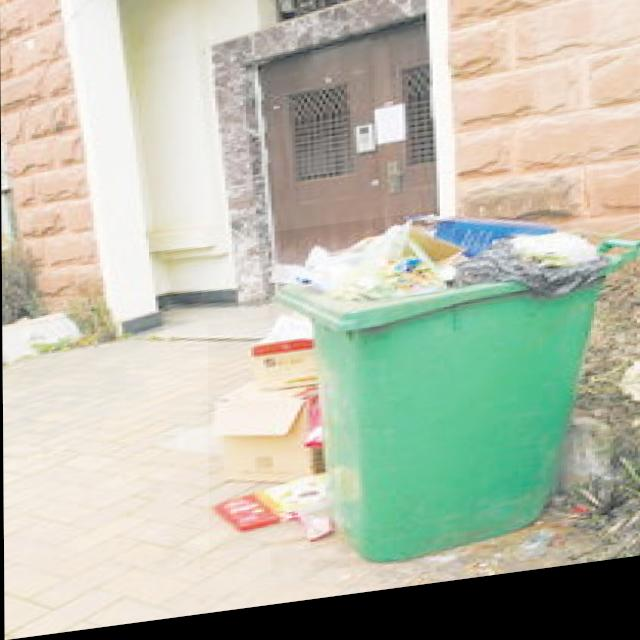garbage: (207, 317, 334, 559)
overflow: (268, 201, 640, 585)
